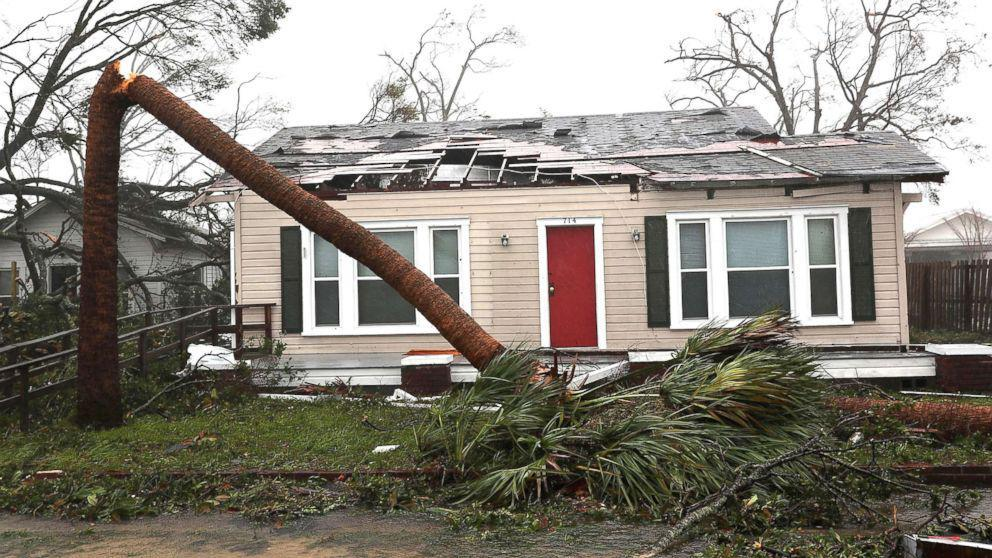major: (202, 100, 955, 411)
